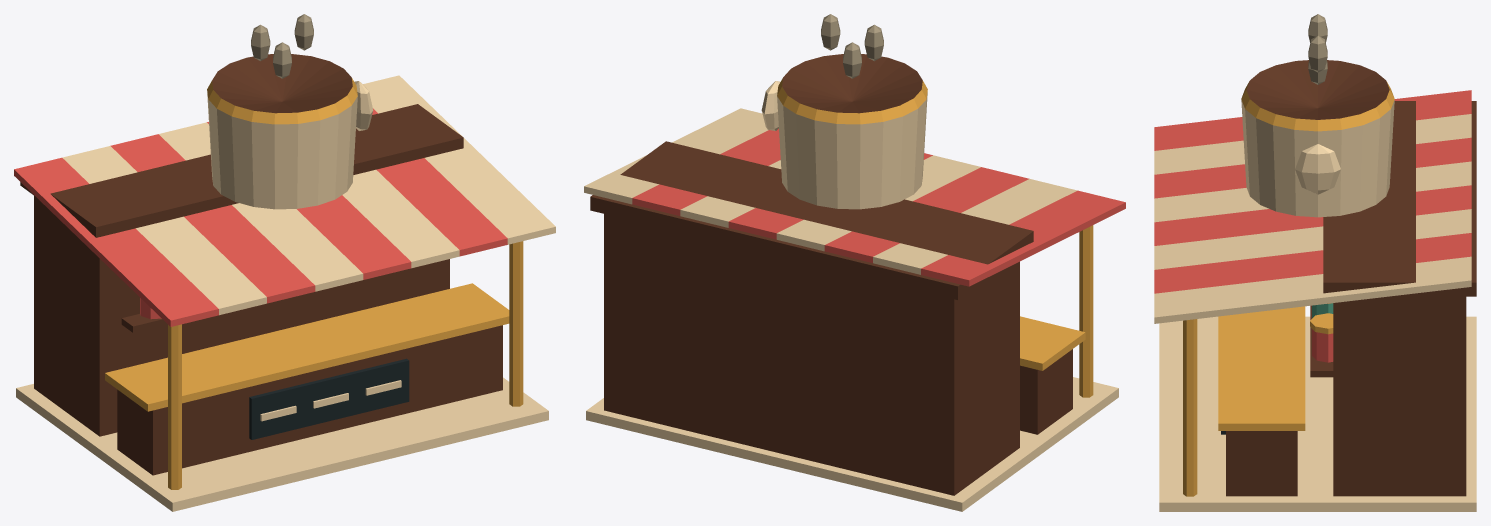
The model's file is ParkParkShopCocoa.obj.
3 views of the same model, side by side, from view 1: azimuth 30°, elevation 25°; view 2: azimuth 150°, elevation 25°; view 3: azimuth 270°, elevation 25° (orthographic).
Parts seen in each view (by area): view 1: ParkParkShopCocoa; view 2: ParkParkShopCocoa; view 3: ParkParkShopCocoa.
Part boxes in pixels (<box>): ParkParkShopCocoa: <box>14,14,555,511</box>; ParkParkShopCocoa: <box>584,14,1125,511</box>; ParkParkShopCocoa: <box>1154,14,1476,511</box>.
Bounding box in the file's own units: 8.8 × 8.5 × 6.3.
